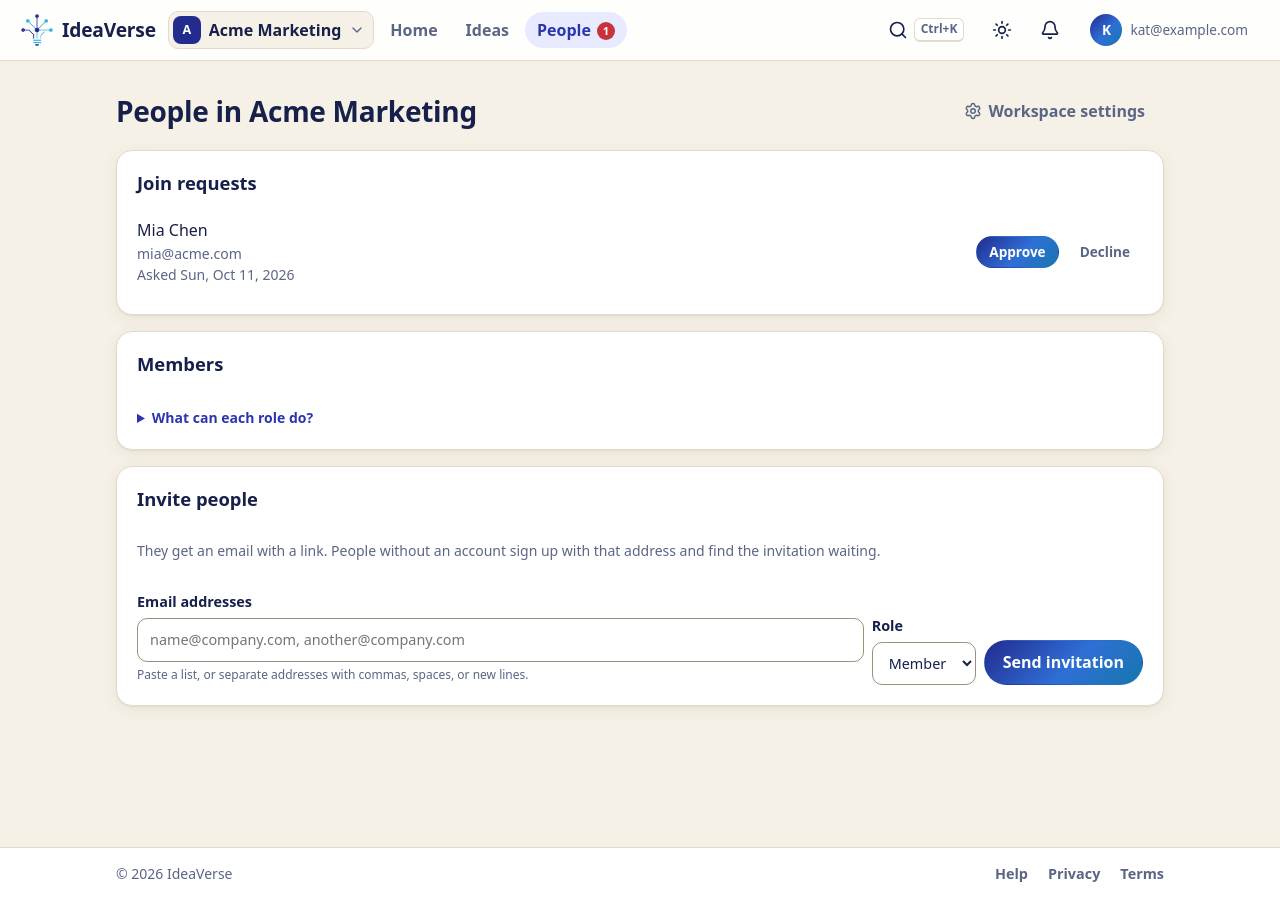
Test: Company domain and join requests › approves someone asking to join
expect the link with aria-label "People, 1 asking to join" is shown: met, box [525,12,627,48]
Click the button with aria-label "Approve Mia Chen" at (1018, 252), box [976,236,1059,268]
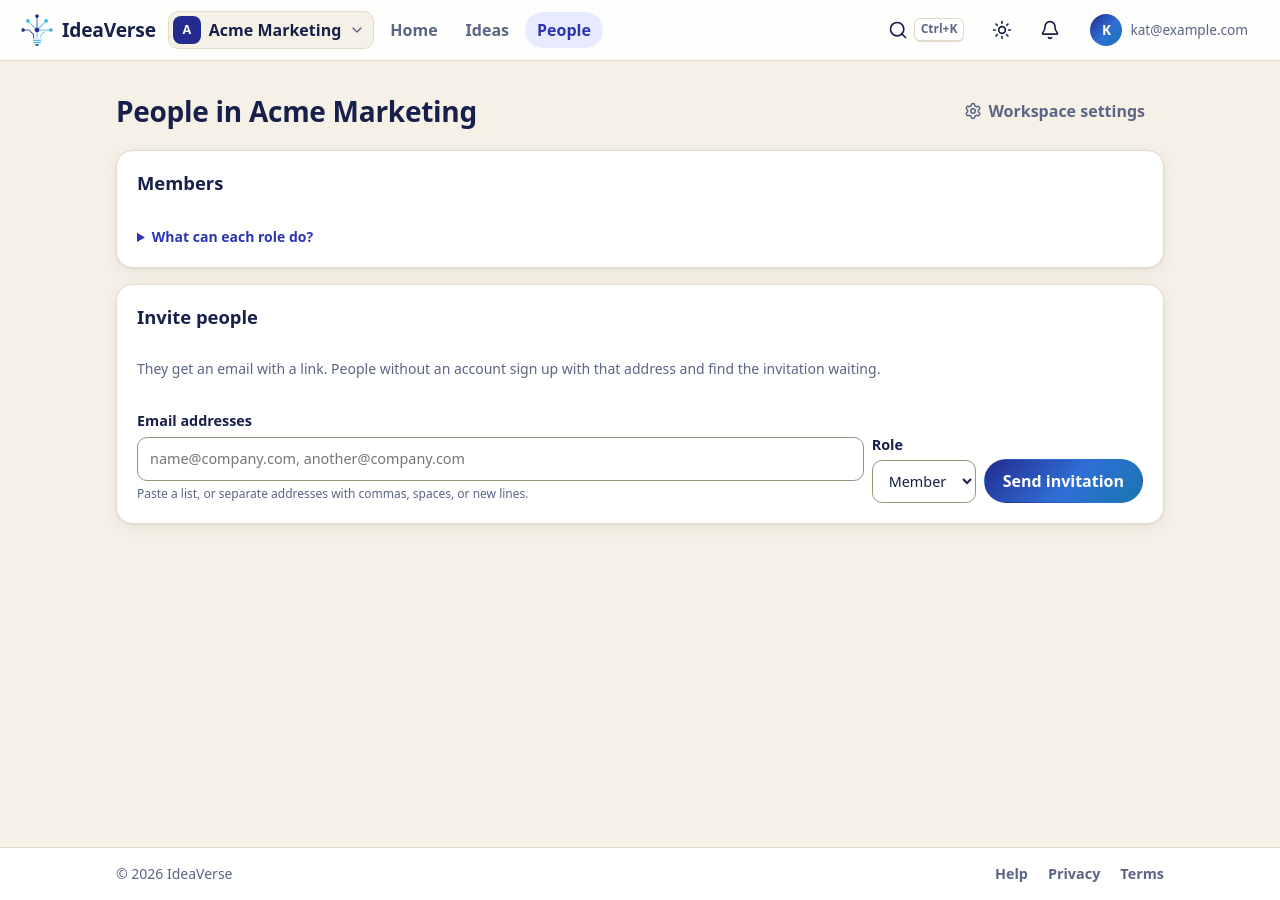
expect the link "People" is shown: met, box [525,12,603,48]
expect the heading "Join requests" is gone: met
